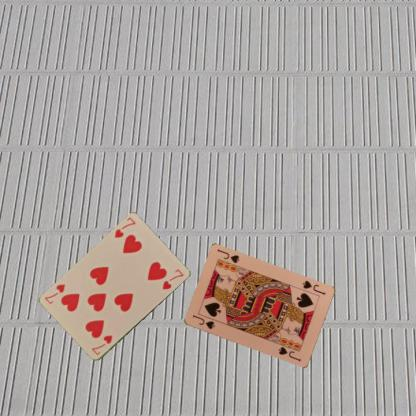7h: (112, 215, 137, 239), (89, 333, 114, 356)
Js: (190, 312, 216, 330), (300, 278, 326, 296)
